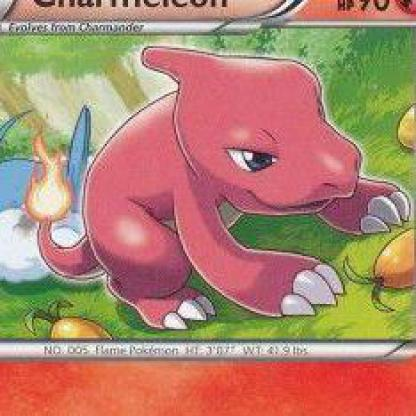Charmeleon: (1, 24, 415, 415)
